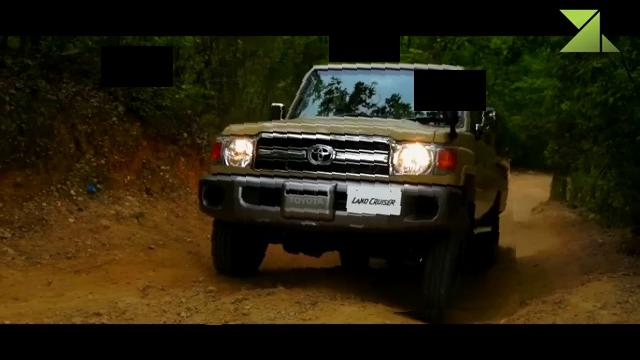MIL_HMMWV: (191, 53, 515, 320)
